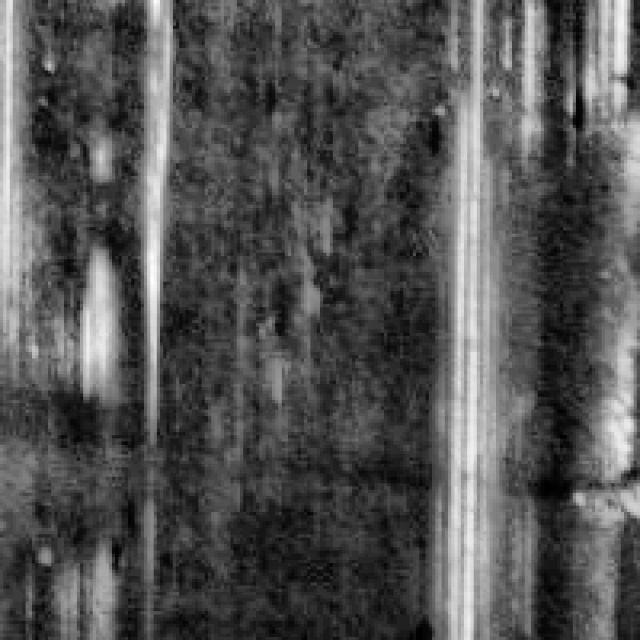Inclusion: (416, 83, 509, 637), (124, 0, 180, 435)
